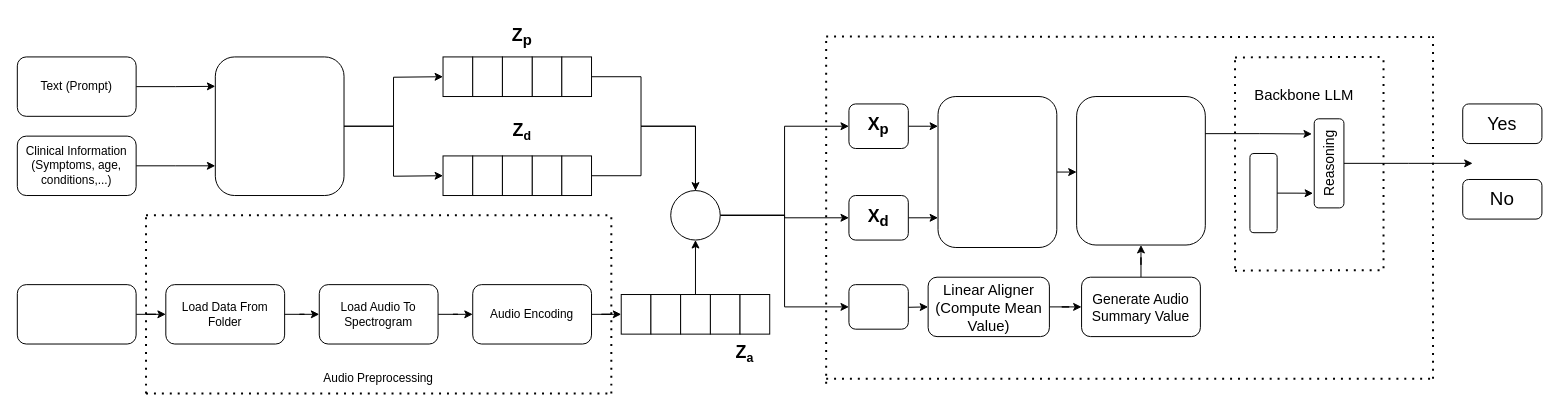
The diagram is 1559 pixels wide and 412 high, and some of its shapes have lost their labels. Here are the shapes that lost their labels. From the top down, the box of each, then its label:
(214, 56, 344, 196): Text Embedding
(937, 96, 1057, 248): Concatenate Prompt and Context
(1076, 96, 1205, 245): Construct Messages with Prompt, Context and Audio
(1249, 153, 1277, 233): Patient Info
(16, 284, 136, 344): Audio
(848, 284, 908, 329): X a
